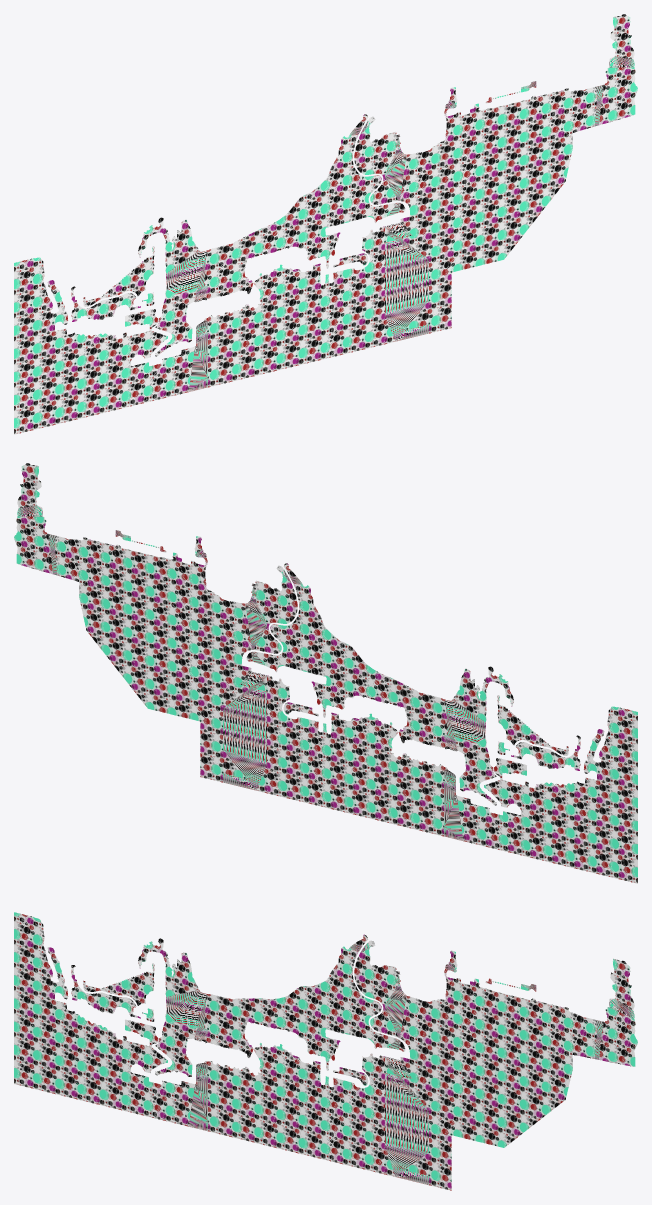
Rendered from africa03.glb.
3 views of the same model, one above another, from view 1: azimuth 30°, elevation 25°; view 2: azimuth 150°, elevation 25°; view 3: azimuth 330°, elevation 25° (orthographic).
Visible parts, largest first — view 1: africa03; view 2: africa03; view 3: africa03.
Part boxes in pixels (x1=…): africa03: x1=14, y1=14, x2=637, y2=434; africa03: x1=14, y1=463, x2=637, y2=883; africa03: x1=14, y1=912, x2=637, y2=1190.
Size of the model in its own units: 5642 by 2349 by 0.
Materials: 1 (1 with a texture image).
